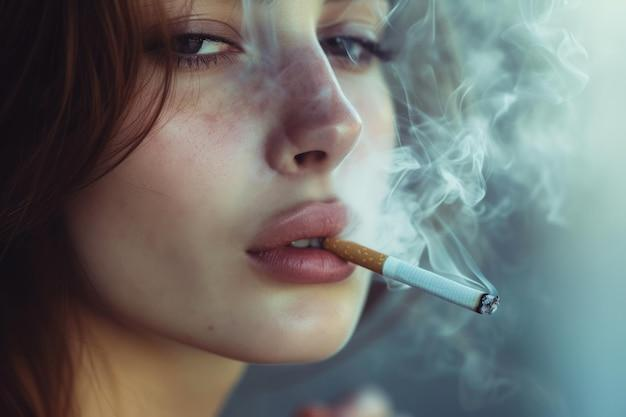cigarette: (322, 238, 498, 313)
